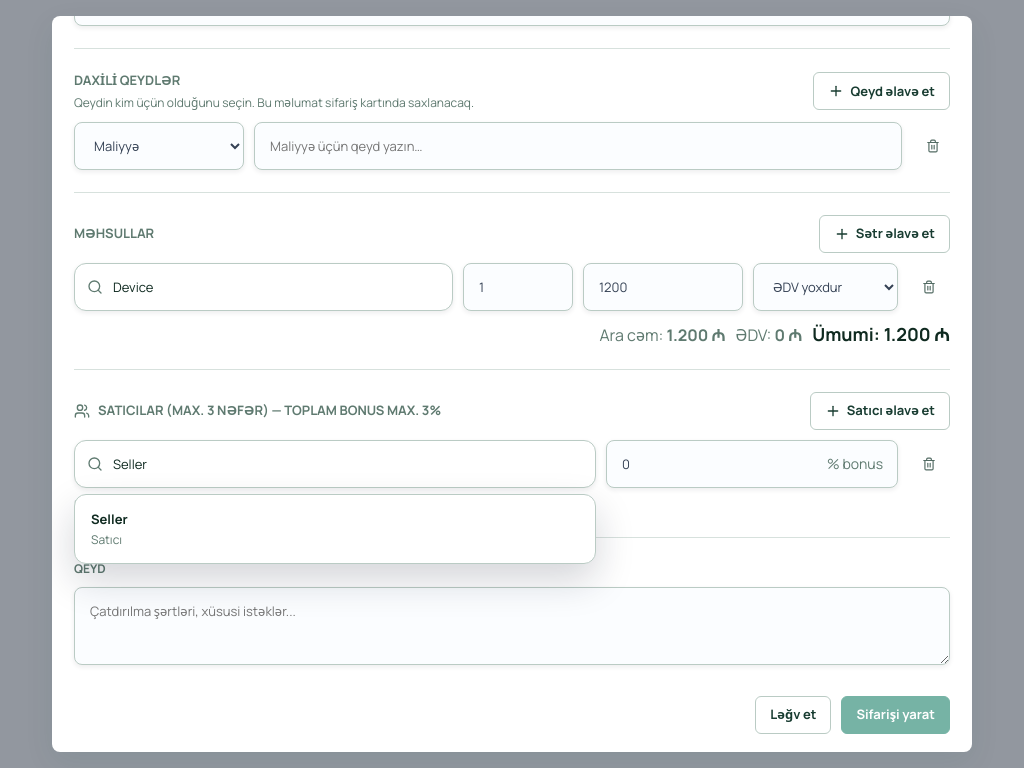
Test: server-confirmed sales submission › locks repeat submission and closing until the server settles
Earlier steps of the test are not shown.
Later steps or results of the test are not shown.
(page scrolled)
Step 1. Click the option "Seller Satıcı" → (109, 519), box [81,501,589,557]
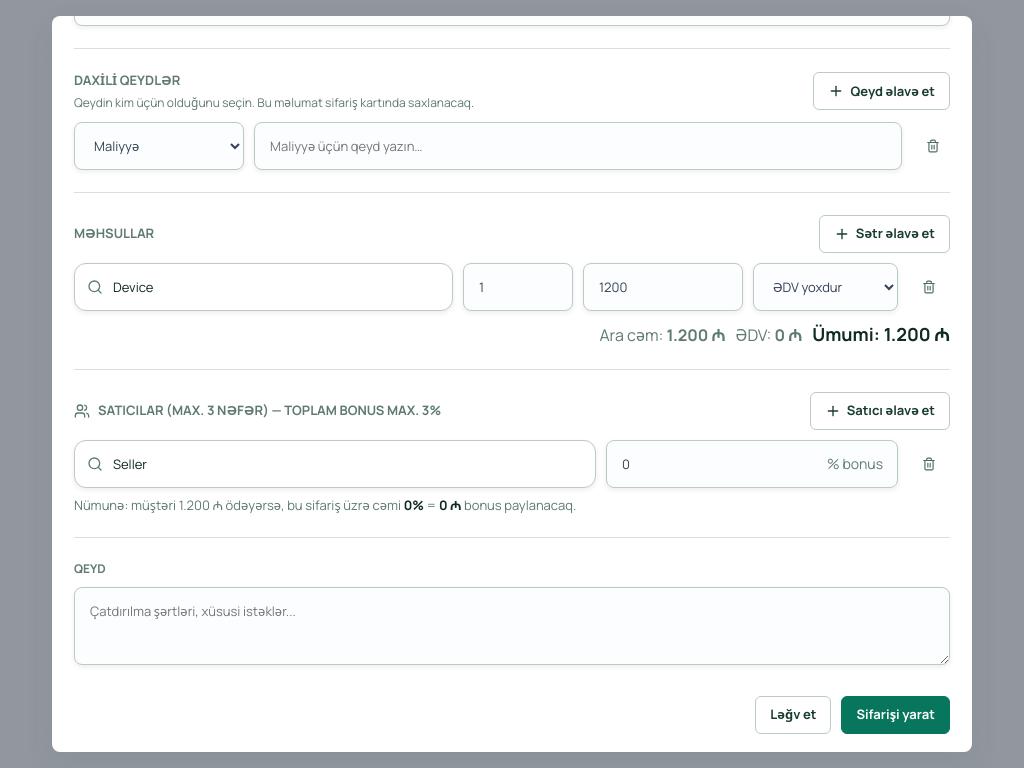
expect the button "Sifarişi yarat" is enabled: met
Step 2. Click the button "Sifarişi yarat" → (896, 715), box [841,696,950,734]
(page scrolled)
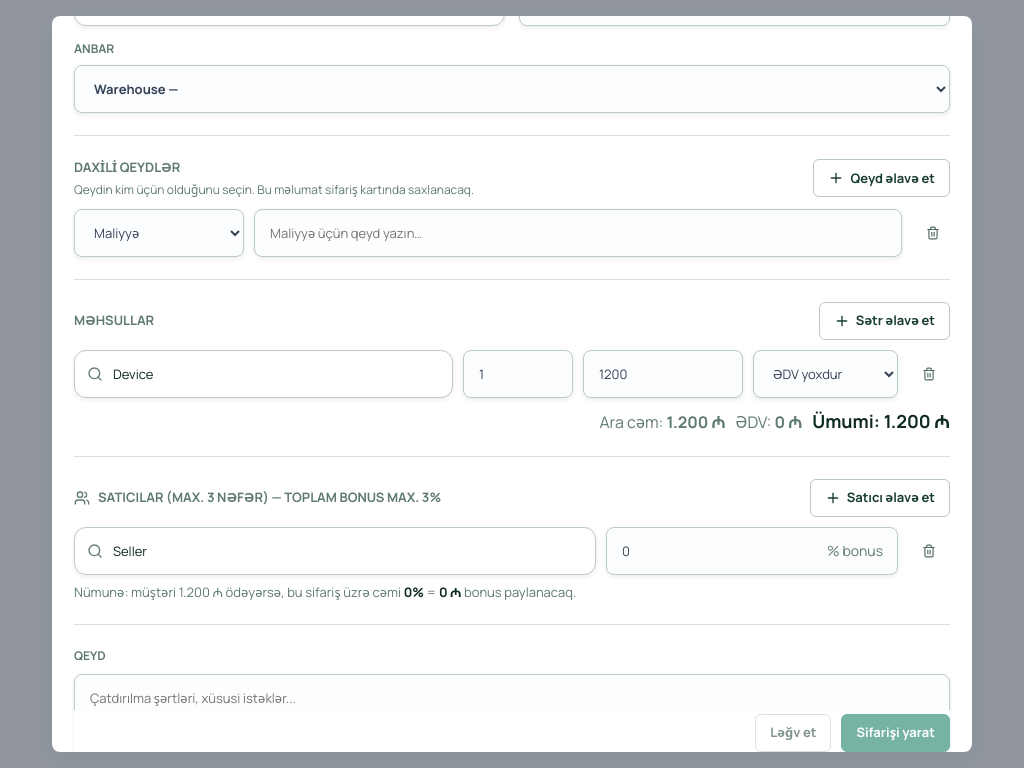
Step 3. Submit the form named "Sifarişi yarat"
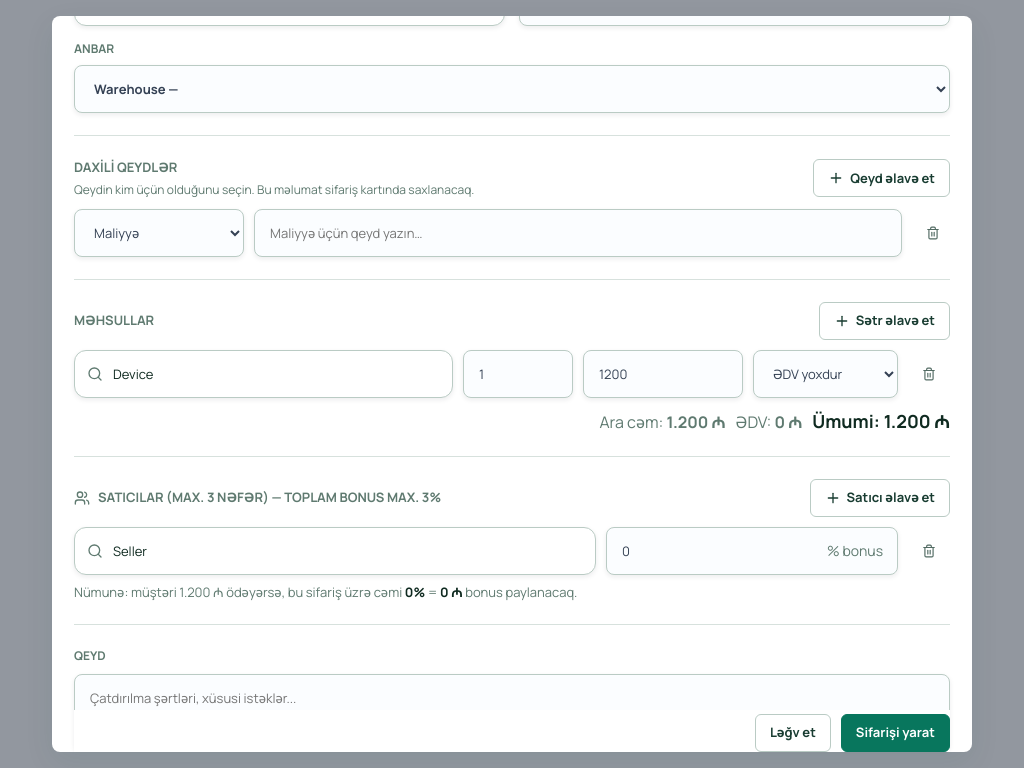
expect the button "Sifarişi yarat" is enabled: met, box [841,714,950,752]
